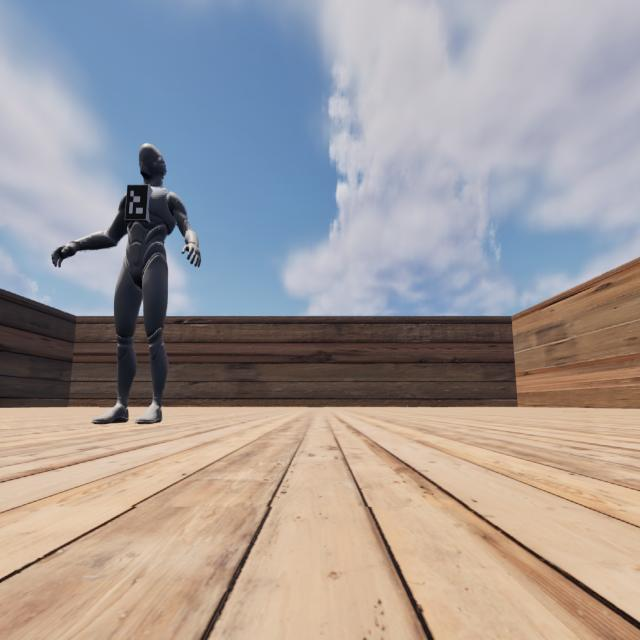aruco: (126, 185, 148, 219)
hip: (123, 256, 168, 268)
